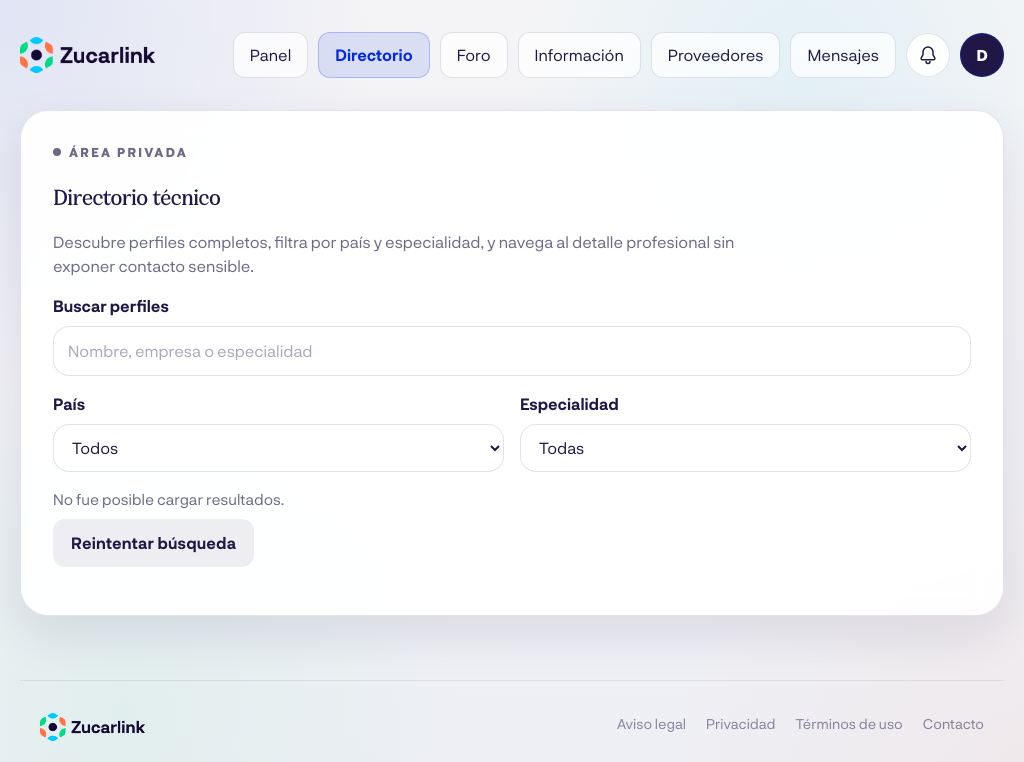
Test: allows retrying the private directory search after a recoverable error
Expected: the heading "Directorio técnico" is shown, [53,181,220,210]
Expected: the text "No fue posible cargar resultados." is shown, [53,490,284,508]
Click the button "Reintentar búsqueda" at (154, 542), box [53,518,254,566]
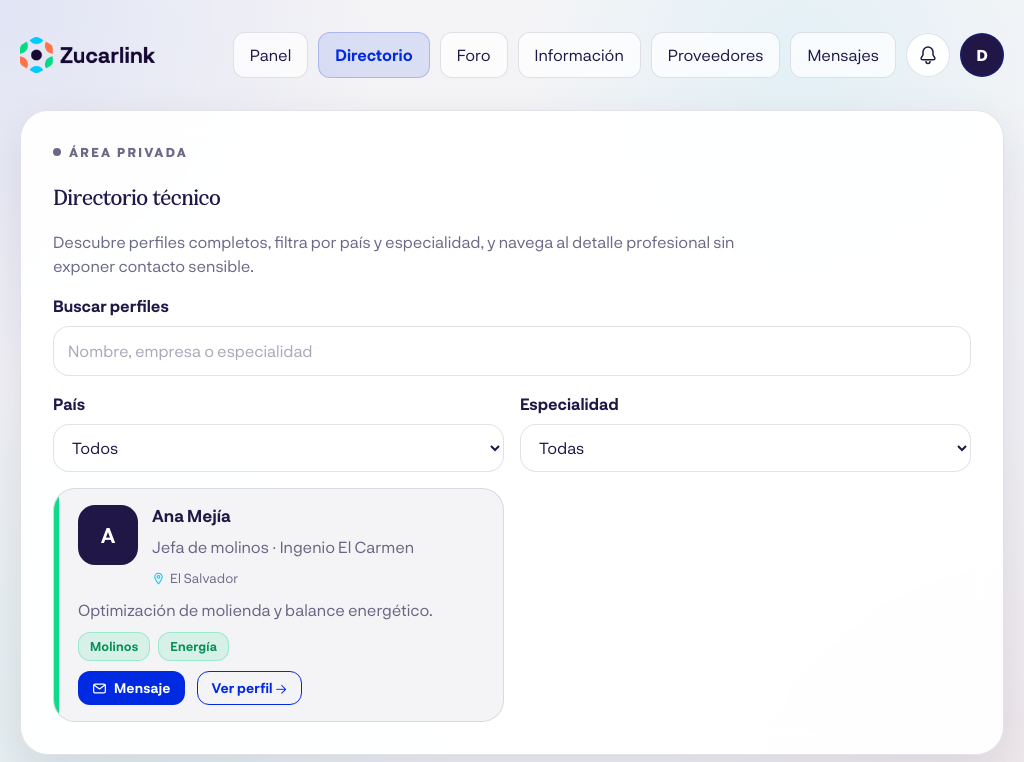
Result: the heading "Ana Mejía" is shown at [152,505,231,525]
